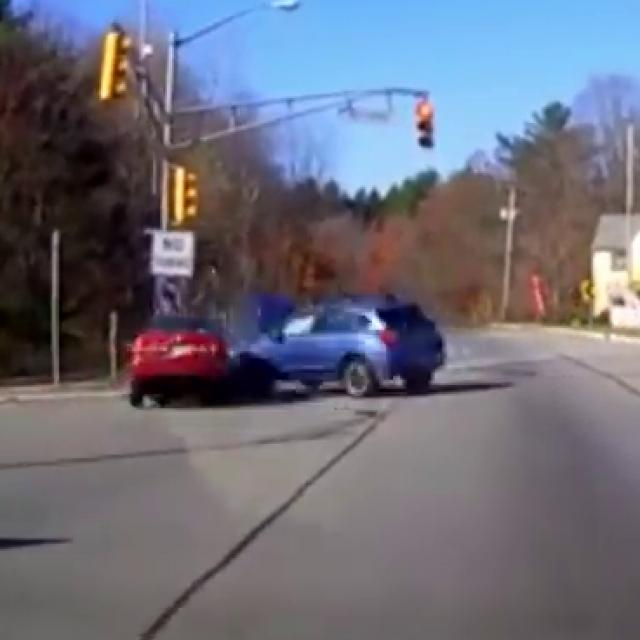accident: (119, 294, 457, 406)
